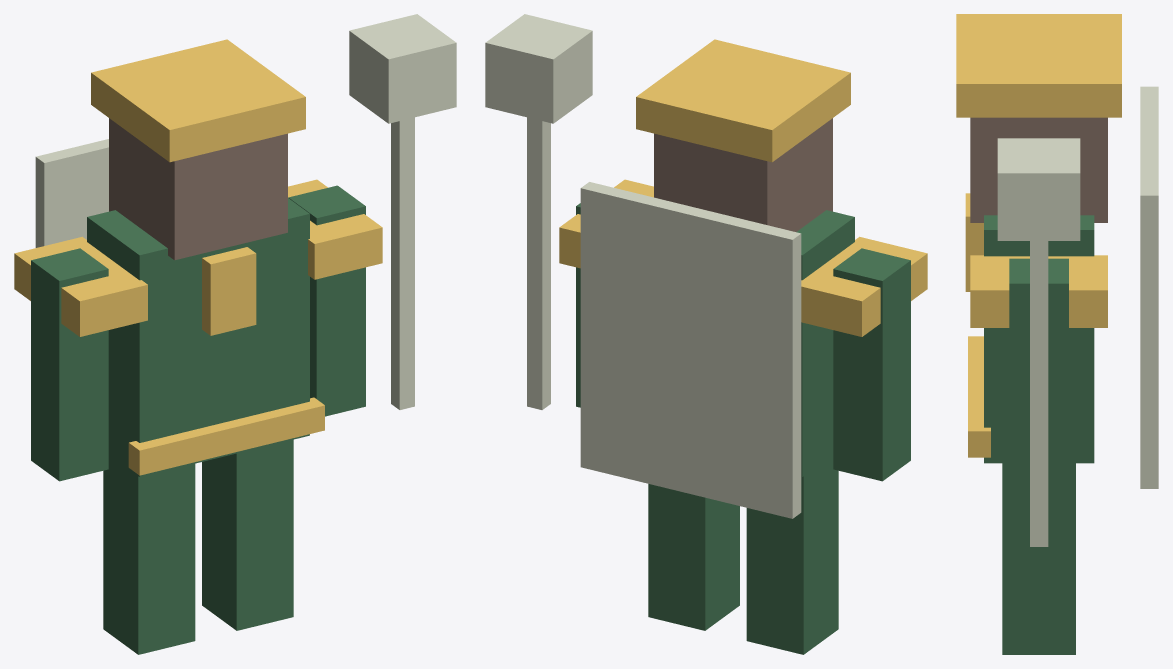
The model's file is 13_kiva_rootborne_broker_under.glb.
3 views of the same model, side by side, from view 1: azimuth 30°, elevation 25°; view 2: azimuth 150°, elevation 25°; view 3: azimuth 270°, elevation 25° (orthographic). The views are drawn at different scales.
Parts seen in each view (by area): view 1: Kiva Rootborne, Broker under; view 2: Kiva Rootborne, Broker under; view 3: Kiva Rootborne, Broker under.
Part boxes in pixels (x1,y1,x2,y2): Kiva Rootborne, Broker under: [14, 14, 456, 654]; Kiva Rootborne, Broker under: [485, 14, 927, 654]; Kiva Rootborne, Broker under: [956, 14, 1158, 654].
Bounding box in the file's own units: 1.06 × 1.39 × 0.4508.
